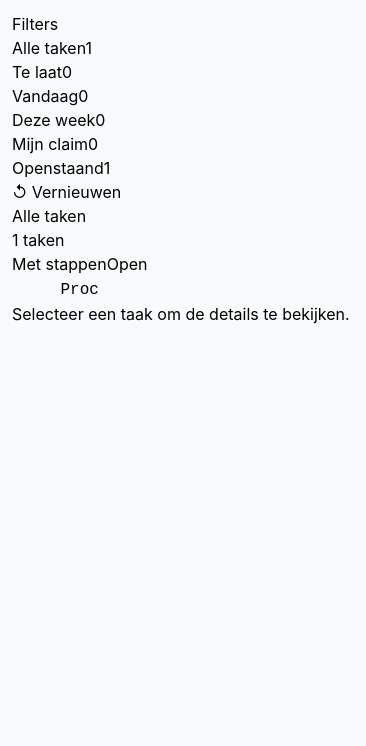
TakenInbox task rows and detail pane › marks each process step as running, cancelled or done
Click the text "Met stappen": click(59, 264) [12,254,107,274]
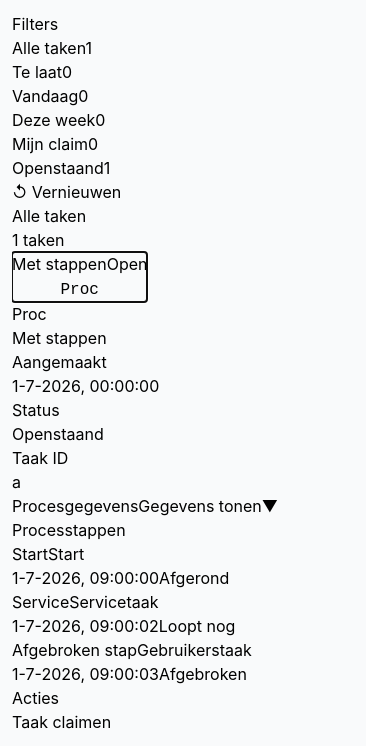
Result: the text "Afgerond" is shown at [159,568,229,588]
Result: the text "Loopt nog" is shown at [159,616,235,636]
Result: the text "Afgebroken" is shown at [159,664,247,684]
